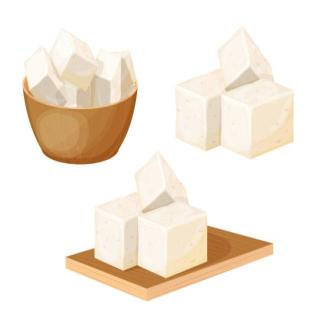Tahu: (86, 154, 218, 293), (172, 25, 300, 168), (23, 38, 140, 113)
